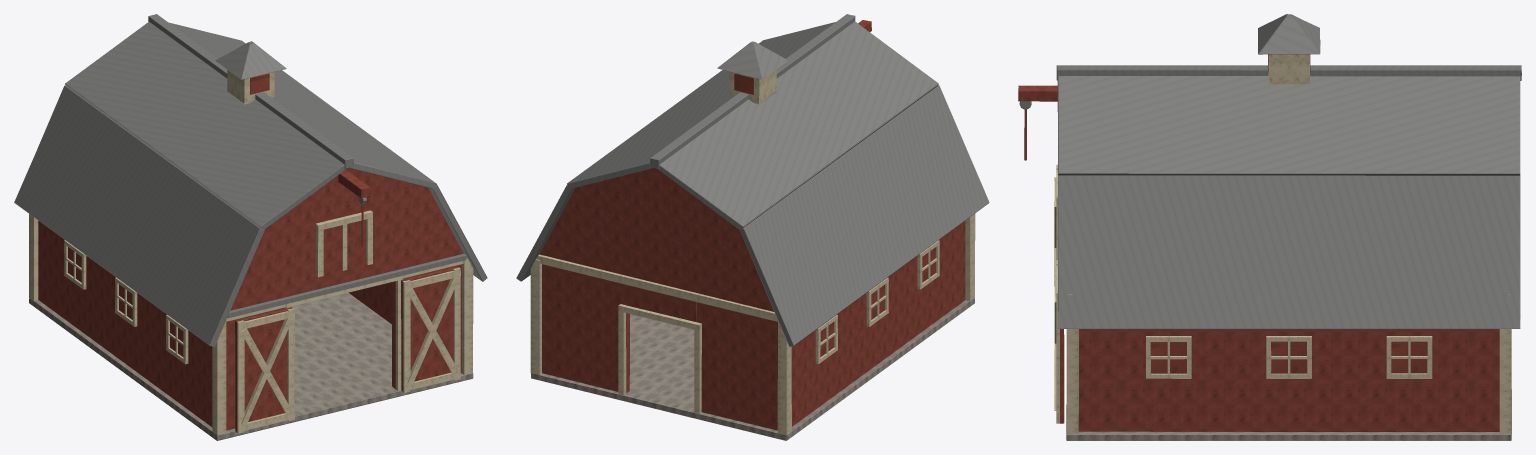
File: barn.glb
The picture shows the model from 3 angles, left to right: view 1: azimuth 30°, elevation 25°; view 2: azimuth 150°, elevation 25°; view 3: azimuth 270°, elevation 25°; orthographic projection. The views are drawn at different scales.
Visible parts, largest first — view 1: Barn; view 2: Barn; view 3: Barn.
Boxes of the visible parts, bbox=[...] form: Barn: bbox=[14, 14, 487, 440]; Barn: bbox=[516, 14, 989, 440]; Barn: bbox=[1018, 14, 1521, 440].
Bounding box in the file's own units: 8.82 × 9.06 × 11.72.
Materials: 4 (4 with a texture image).
